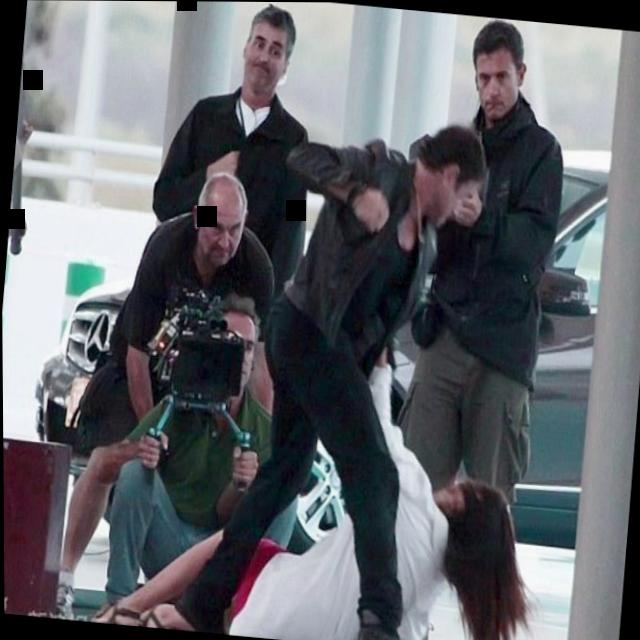Fall-Detected: (74, 295, 565, 640)
